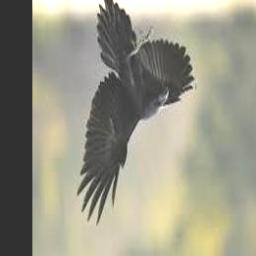Crow: (77, 0, 197, 226)
